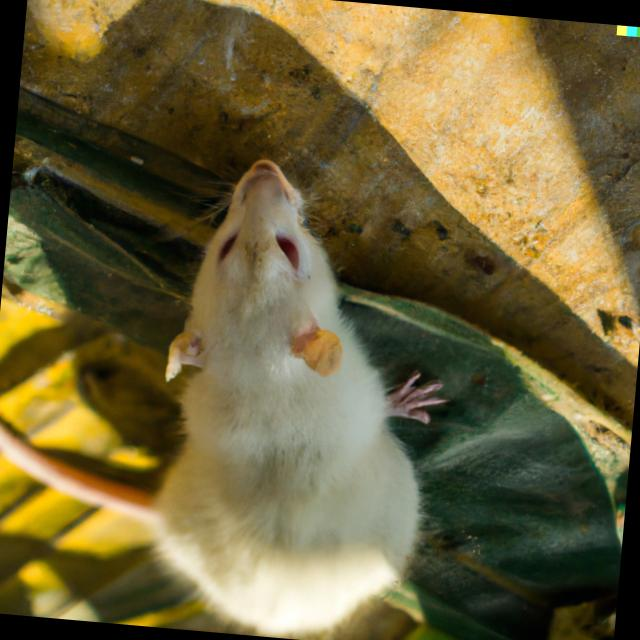rodent: (130, 133, 466, 640)
